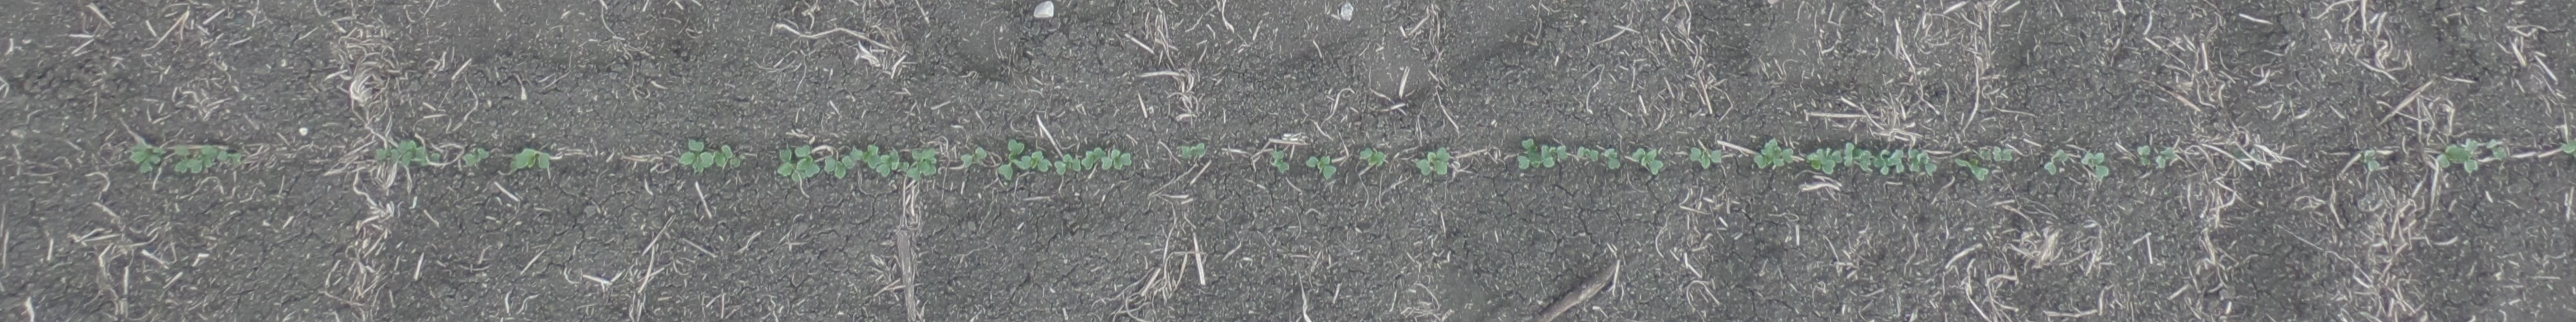clumped: (997, 138, 1053, 181), (823, 145, 899, 176), (1055, 148, 1132, 176), (174, 143, 241, 174), (680, 140, 733, 172), (1516, 138, 1567, 168), (2436, 138, 2479, 172), (375, 140, 424, 168), (777, 146, 820, 177), (1753, 140, 1794, 169), (1874, 148, 1906, 176)
isolated: (130, 141, 164, 172), (1633, 146, 1664, 176), (1845, 140, 1873, 172), (1809, 148, 1843, 174), (1955, 154, 1989, 181), (907, 148, 936, 177), (1419, 148, 1451, 176), (1909, 148, 1939, 176), (514, 148, 550, 169), (1306, 154, 1337, 179), (1689, 148, 1723, 169), (2044, 148, 2070, 176), (2083, 151, 2109, 179), (462, 146, 490, 168), (961, 146, 987, 168), (1360, 146, 1387, 168), (2155, 146, 2178, 169), (1270, 149, 1291, 172), (1181, 143, 1206, 161), (1602, 149, 1621, 171), (2361, 149, 2380, 171), (2487, 140, 2507, 161), (1577, 145, 1598, 163), (2136, 145, 2152, 168), (1991, 146, 2014, 161), (2561, 138, 2576, 154), (430, 153, 442, 164)
